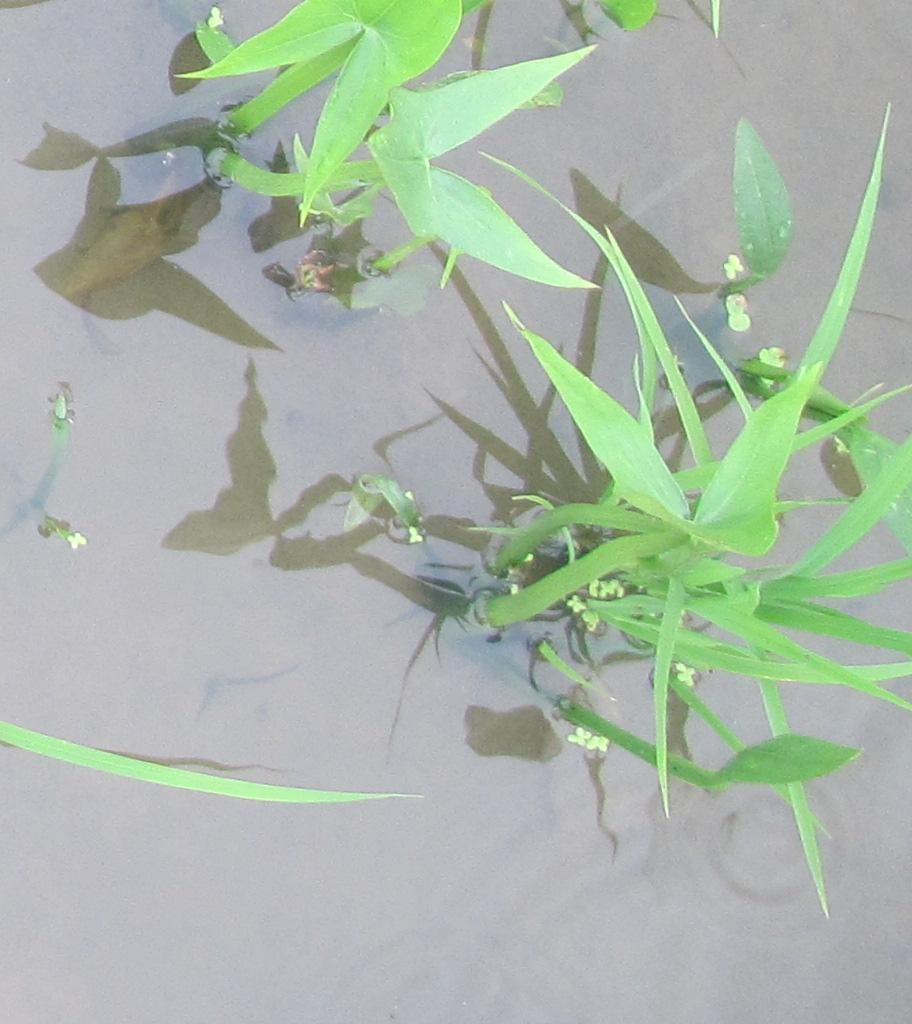Weed: (194, 1, 602, 291), (511, 310, 799, 558)
